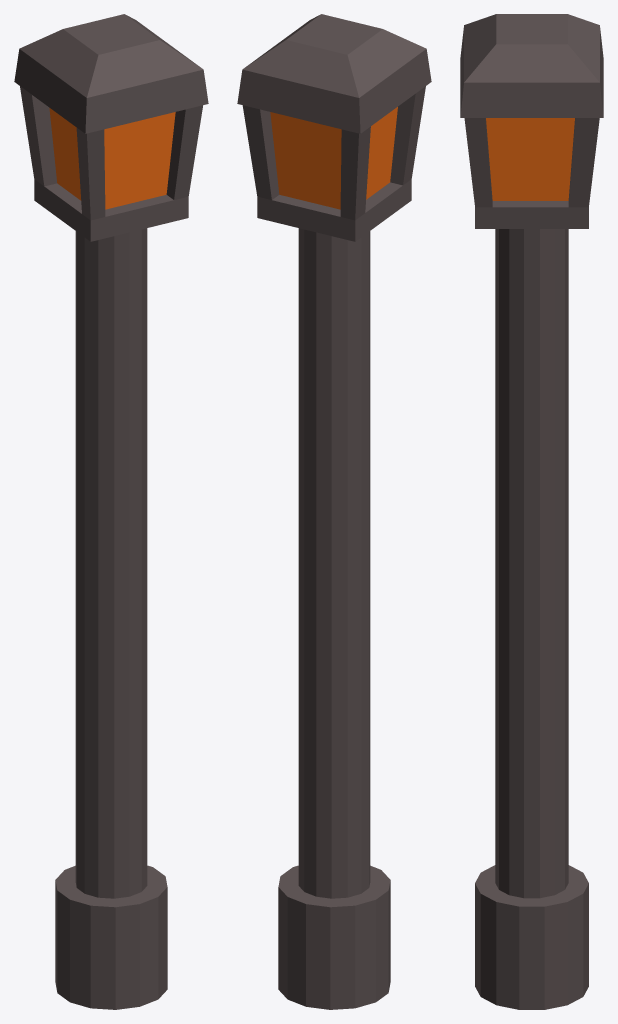
File: Street Light.fbx
The picture shows the model from 3 angles, left to right: view 1: azimuth 30°, elevation 25°; view 2: azimuth 150°, elevation 25°; view 3: azimuth 270°, elevation 25°; orthographic projection.
Visible parts, largest first — view 1: Cylinder.001, Cube.001, Cylinder, Cube, Cube.002; view 2: Cylinder.001, Cube.001, Cylinder, Cube, Cube.002; view 3: Cylinder.001, Cube.001, Cylinder, Cube.002, Cube.
Boxes of the visible parts, x1,y1,x2,y2 form: Cylinder.001: (75, 228, 147, 898); Cube.001: (14, 14, 208, 133); Cylinder: (55, 865, 167, 1009); Cube: (20, 86, 202, 241); Cube.002: (49, 108, 175, 209); Cylinder.001: (298, 228, 370, 898); Cube.001: (237, 14, 431, 133); Cylinder: (278, 865, 390, 1009); Cube: (242, 86, 425, 241); Cube.002: (270, 107, 397, 209); Cylinder.001: (495, 229, 568, 898); Cube.001: (460, 14, 603, 117); Cylinder: (475, 865, 588, 1009); Cube.002: (486, 118, 574, 200); Cube: (464, 118, 599, 228).
Size of the model in its own units: 115 by 848 by 115.
